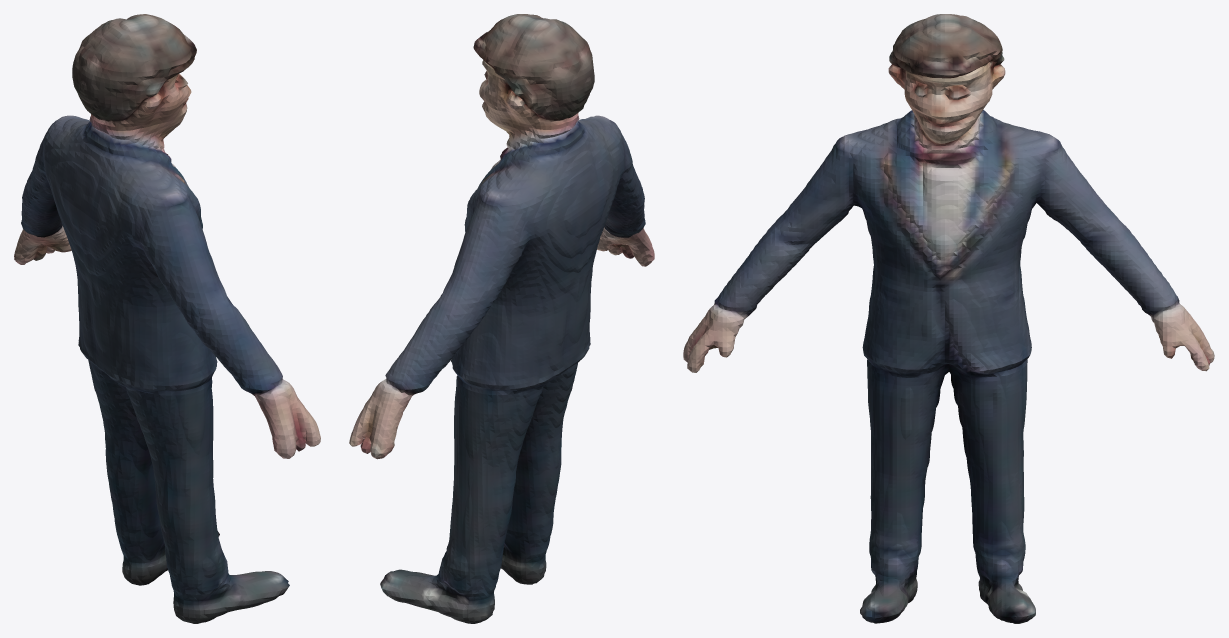
File: henri_host_pixar.glb
3 renders of one model, left to right at view 1: azimuth 30°, elevation 25°; view 2: azimuth 150°, elevation 25°; view 3: azimuth 270°, elevation 25°, orthographic. The views are drawn at different scales.
Parts seen in each view (by area): view 1: geometry_0; view 2: geometry_0; view 3: geometry_0.
Boxes of the visible parts, <box> form: geometry_0: <box>14,14,320,623</box>; geometry_0: <box>349,14,654,623</box>; geometry_0: <box>683,14,1214,623</box>.
Size of the model in its own units: 0.303 by 0.987 by 0.8317.
